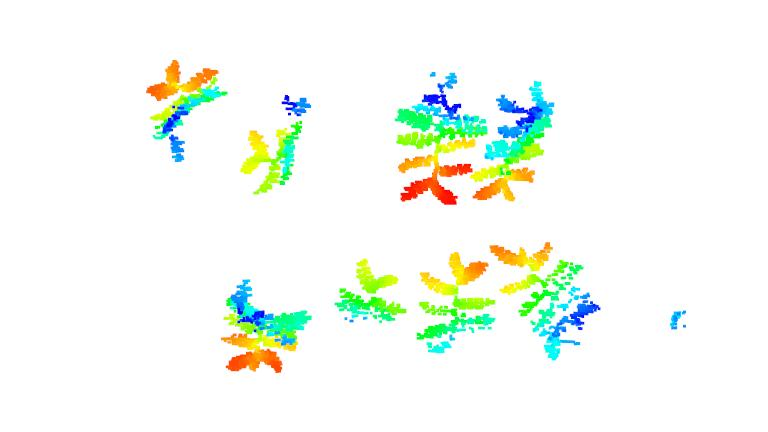chickpea: (492, 239, 600, 360), (394, 69, 485, 207), (471, 79, 556, 204), (214, 280, 315, 373), (146, 57, 229, 166), (416, 248, 498, 358), (241, 95, 312, 194), (338, 258, 407, 328)
